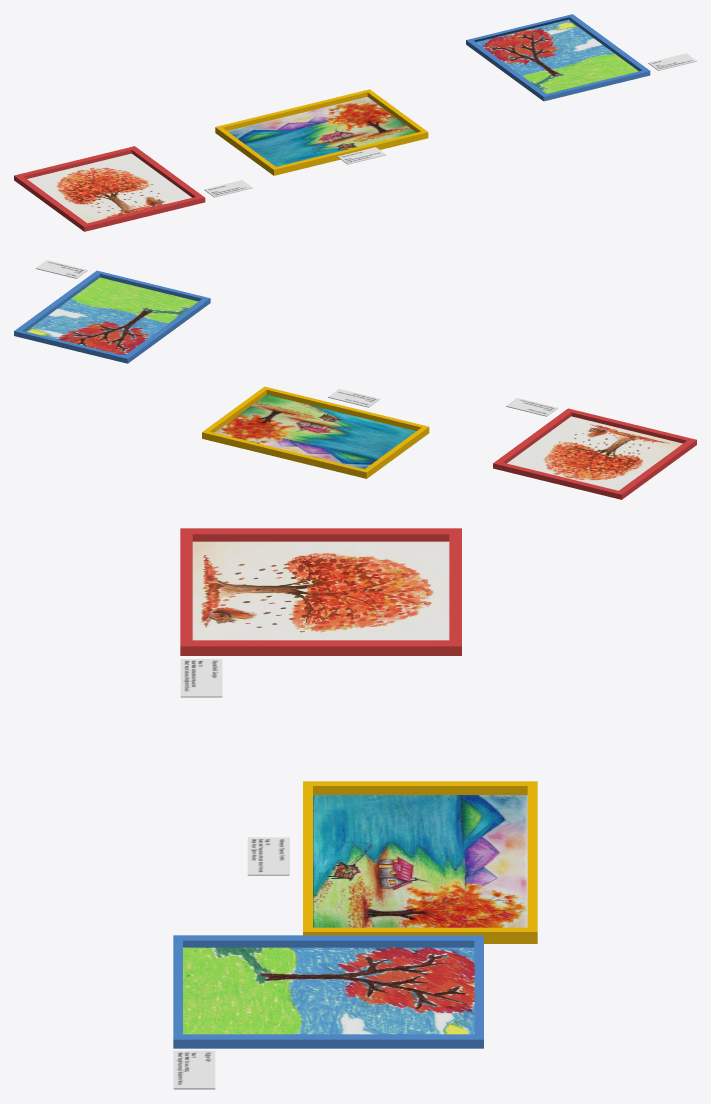
Rendered from asset.gltf.
The picture shows the model from 3 angles, top to bottom: view 1: azimuth 30°, elevation 25°; view 2: azimuth 150°, elevation 25°; view 3: azimuth 270°, elevation 25°; orthographic projection. The views are drawn at different scales.
Visible parts, largest first — view 1: pasted__pasted__polySurface544; view 2: pasted__pasted__polySurface544; view 3: pasted__pasted__polySurface544.
Part boxes in pixels (x1,y1,x2,y2): pasted__pasted__polySurface544: (14,14,696,231); pasted__pasted__polySurface544: (14,260,696,499); pasted__pasted__polySurface544: (173,528,537,1089).
Size of the model in its own units: 15.93 by 1.12 by 4.11.
Materials: 12 (6 with a texture image).
